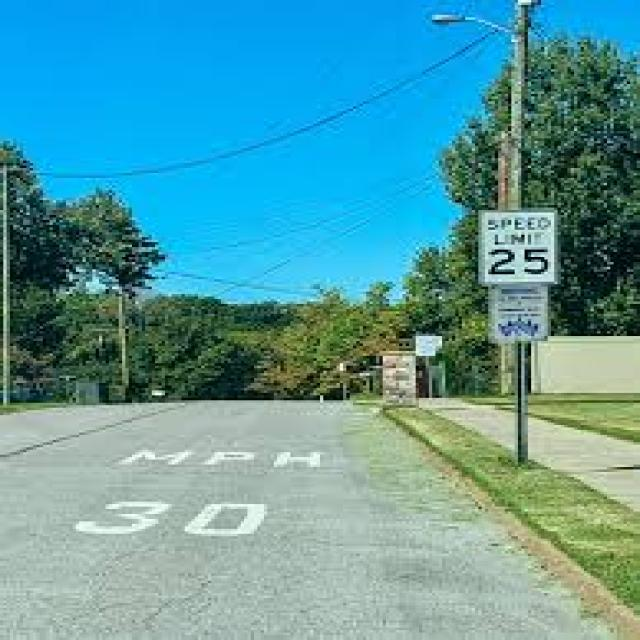speedLimit25: (479, 199, 561, 288)
